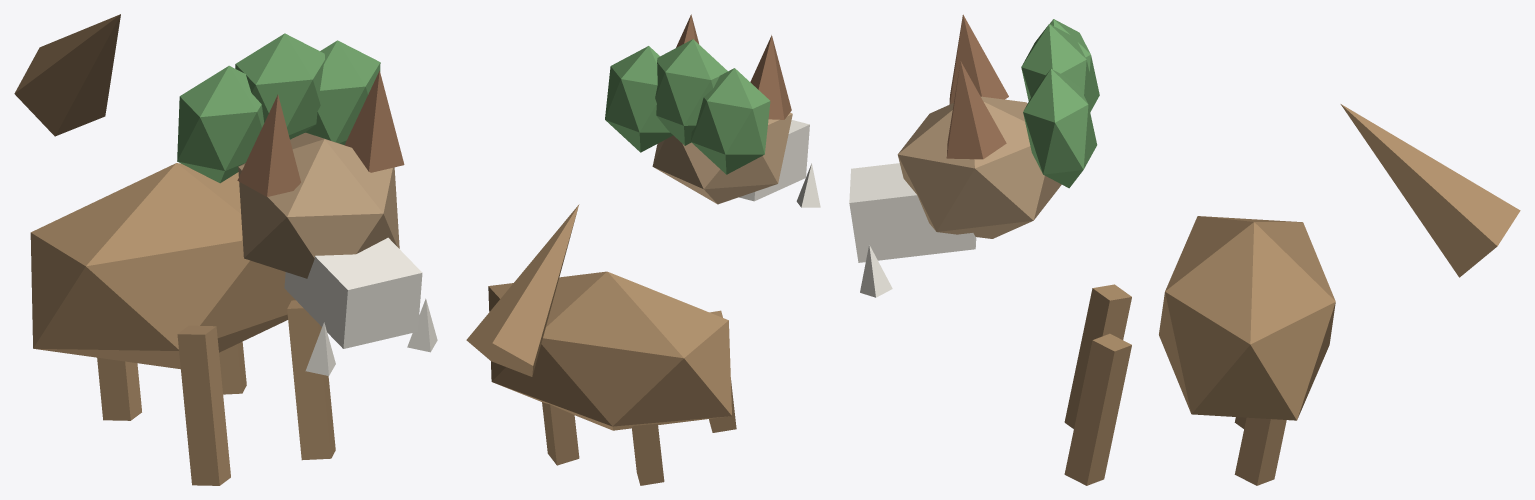
Rendered from npcpose_wolf_attack_03.glb.
3 views of the same model, side by side, from view 1: azimuth 30°, elevation 25°; view 2: azimuth 150°, elevation 25°; view 3: azimuth 270°, elevation 25° (orthographic). The views are drawn at different scales.
Parts seen in each view (by area): view 1: npcpose; view 2: npcpose; view 3: npcpose.
Boxes of the visible parts, box(x1,y1,x2,y2) form: npcpose: box(14, 14, 437, 485); npcpose: box(466, 14, 820, 485); npcpose: box(849, 14, 1520, 485).
Bounding box in the file's own units: 0.8873 × 1.29 × 1.81.
